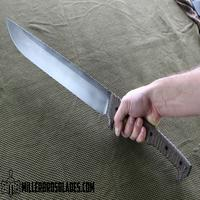knife: (6, 16, 174, 164)
